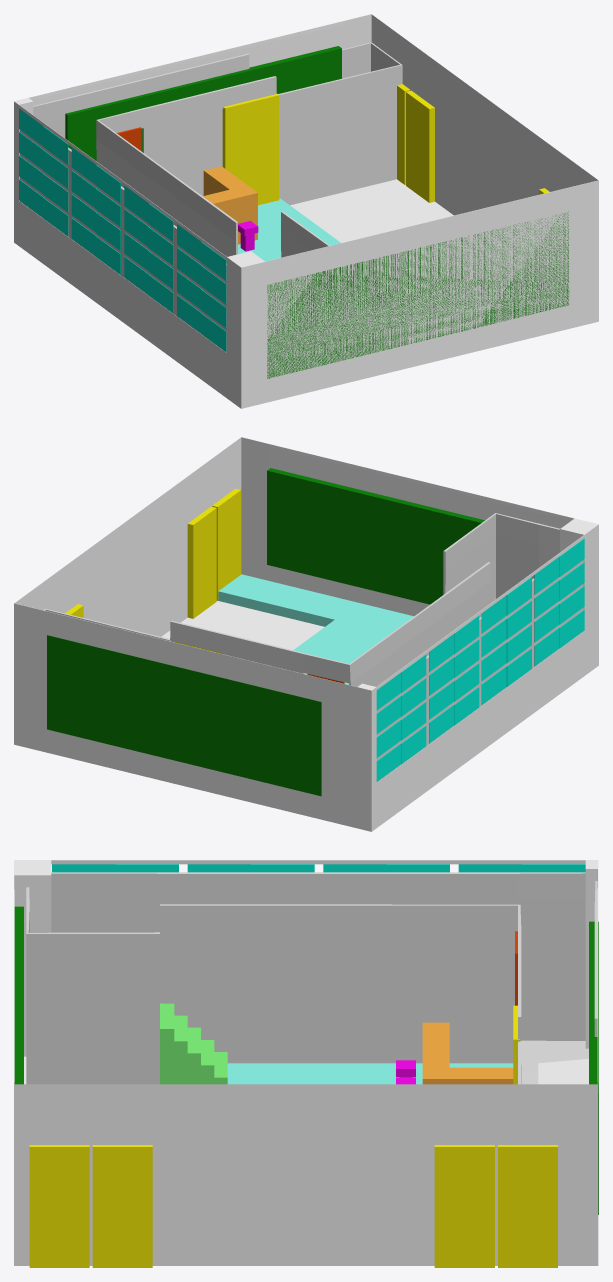
3 views of the same model, one above another, from view 1: azimuth 30°, elevation 25°; view 2: azimuth 150°, elevation 25°; view 3: azimuth 270°, elevation 25° (orthographic). The views are drawn at different scales.
Visible parts, largest first — view 1: Cube, 立方体.007, 立方体.003, 立方体.005, 立方体.004, 立方体.002, 立方体.010, 立方体.006, 平面.001, 平面, 立方体.001; view 2: Cube, 立方体.004, 立方体.007, 立方体.003, 立方体.005, 平面, 立方体.006, 立方体.002, 立方体.001, 立方体; view 3: 立方体.007, Cube, 立方体.006, 立方体.005, 平面, グリッド, 平面.001, 立方体.002, 立方体.003, 立方体.004, 立方体, 立方体.001.
Boxes of the visible parts, bbox=[...] form: Cube: bbox=[15, 14, 598, 408]; 立方体.007: bbox=[19, 42, 402, 352]; 立方体.003: bbox=[267, 211, 569, 378]; 立方体.005: bbox=[19, 108, 226, 351]; 立方体.004: bbox=[65, 46, 341, 160]; 立方体.002: bbox=[226, 251, 265, 408]; 立方体.010: bbox=[222, 93, 279, 205]; 立方体.006: bbox=[397, 84, 549, 202]; 平面.001: bbox=[203, 166, 257, 244]; 平面: bbox=[238, 198, 340, 261]; 立方体.001: bbox=[14, 98, 33, 245]; Cube: bbox=[14, 437, 598, 831]; 立方体.004: bbox=[47, 635, 321, 796]; 立方体.007: bbox=[44, 513, 583, 782]; 立方体.003: bbox=[267, 468, 484, 604]; 立方体.005: bbox=[376, 538, 584, 781]; 平面: bbox=[218, 574, 413, 684]; 立方体.006: bbox=[65, 488, 241, 618]; 立方体.002: bbox=[560, 518, 598, 675]; 立方体.001: bbox=[357, 683, 376, 831]; 立方体: bbox=[42, 744, 327, 820]; 立方体.007: bbox=[26, 872, 597, 1084]; Cube: bbox=[14, 860, 598, 1265]; 立方体.006: bbox=[29, 1145, 557, 1267]; 立方体.005: bbox=[52, 864, 585, 872]; 平面: bbox=[227, 1063, 513, 1084]; グリッド: bbox=[161, 1003, 227, 1084]; 平面.001: bbox=[422, 1022, 513, 1084]; 立方体.002: bbox=[14, 860, 51, 1056]; 立方体.003: bbox=[14, 906, 23, 1084]; 立方体.004: bbox=[589, 921, 598, 1214]; 立方体: bbox=[538, 1058, 588, 1084]; 立方体.001: bbox=[585, 860, 597, 1048].
Size of the model in its own units: 8.03 by 3.05 by 8.76.
